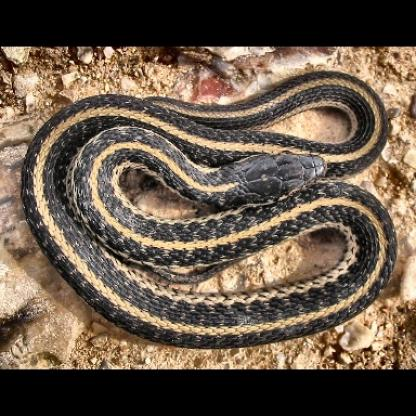Snake: (25, 69, 398, 347)
